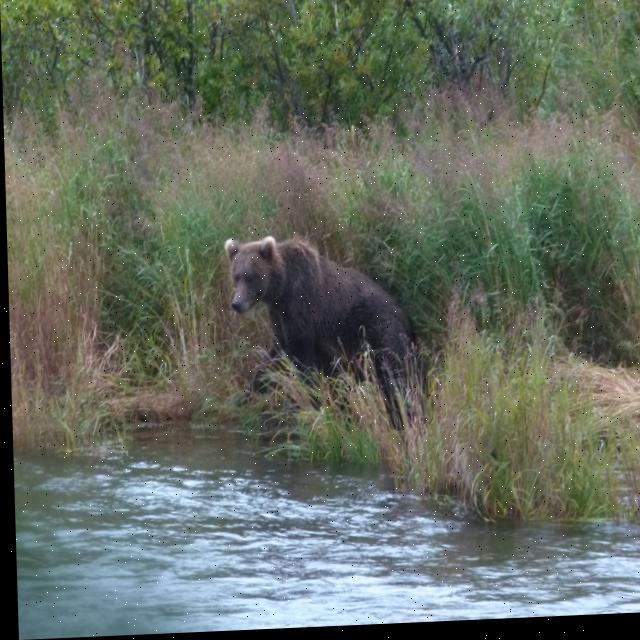bear face: (222, 231, 413, 398)
